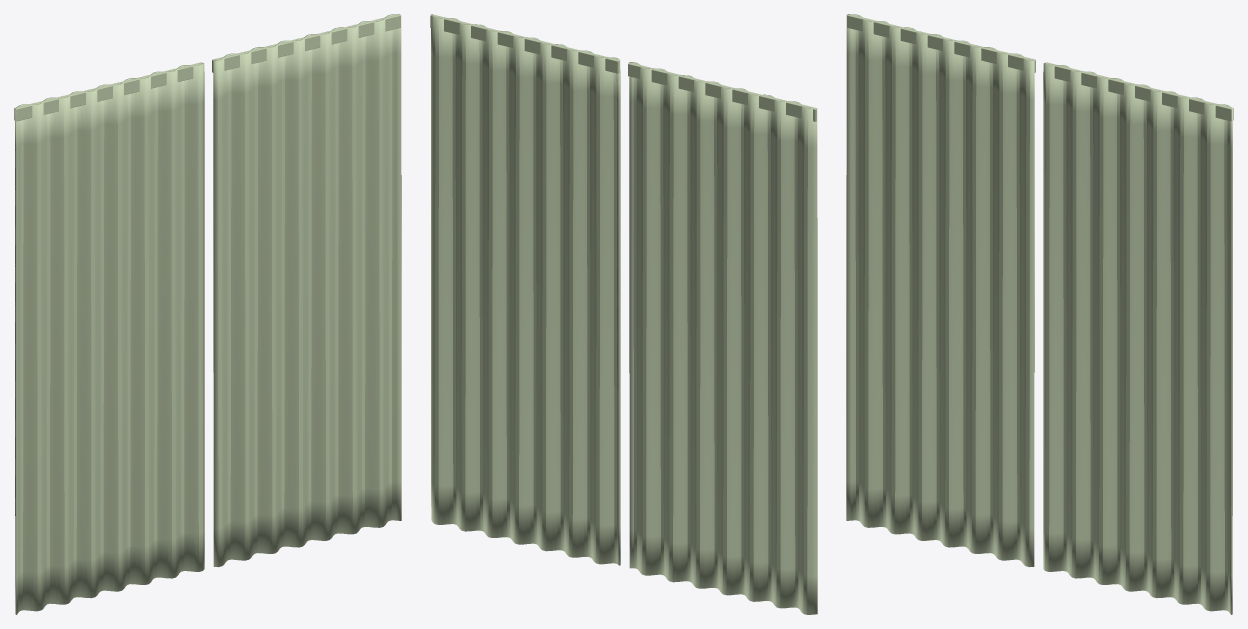
The model's file is curtain_pair__202.glb.
3 views of the same model, side by side, from view 1: azimuth 30°, elevation 25°; view 2: azimuth 150°, elevation 25°; view 3: azimuth 330°, elevation 25° (orthographic).
Parts seen in each view (by area): view 1: curtain_pair__202; view 2: curtain_pair__202; view 3: curtain_pair__202.
Part boxes in pixels (bbox=[...]): curtain_pair__202: bbox=[14, 14, 401, 614]; curtain_pair__202: bbox=[430, 14, 817, 614]; curtain_pair__202: bbox=[846, 14, 1233, 614].
Size of the model in its own units: 1.6 by 2 by 0.04.
